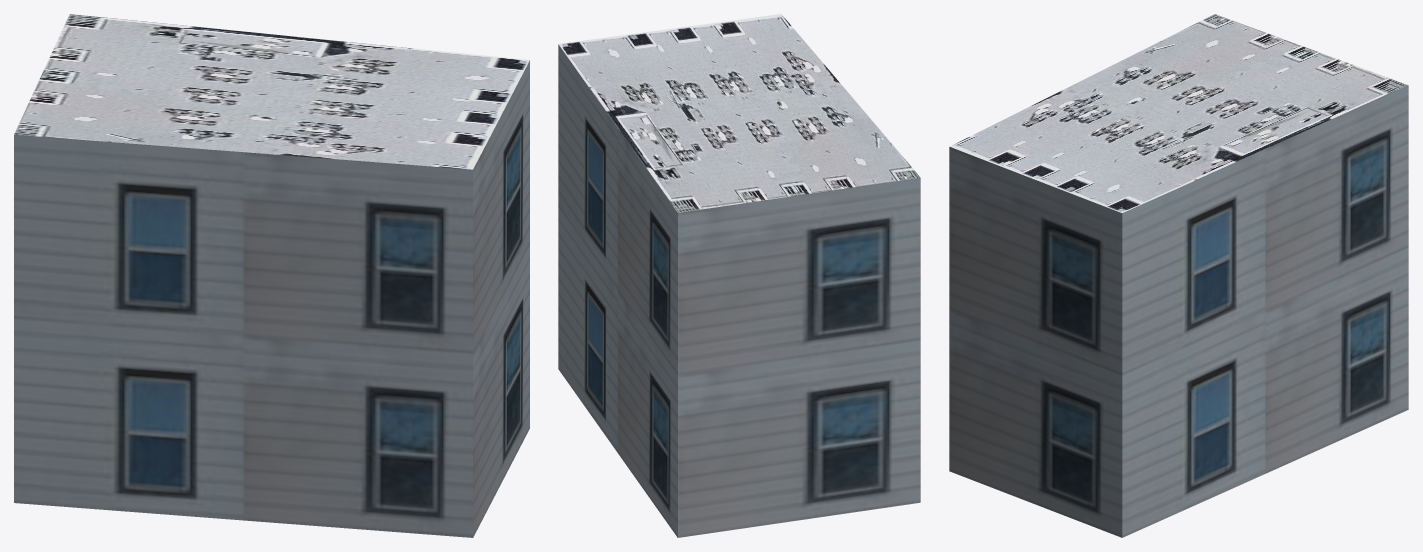
File: ResTex__4335.fbx
The picture shows the model from 3 angles, left to right: view 1: azimuth 30°, elevation 25°; view 2: azimuth 150°, elevation 25°; view 3: azimuth 270°, elevation 25°; orthographic projection. The views are drawn at different scales.
Parts seen in each view (by area): view 1: CityEngineMaterial_18_m, CityEngineMaterial_m; view 2: CityEngineMaterial_18_m, CityEngineMaterial_m; view 3: CityEngineMaterial_18_m, CityEngineMaterial_m.
Boxes of the visible parts, left/top/right/bottom form: CityEngineMaterial_18_m: left=14, top=60, right=529, bottom=537; CityEngineMaterial_m: left=14, top=14, right=529, bottom=169; CityEngineMaterial_18_m: left=558, top=44, right=920, bottom=537; CityEngineMaterial_m: left=558, top=14, right=920, bottom=212; CityEngineMaterial_18_m: left=949, top=85, right=1408, bottom=537; CityEngineMaterial_m: left=950, top=14, right=1407, bottom=213.
Size of the model in its own units: 7.9 by 6 by 7.69.
2 materials, 2 textured.
